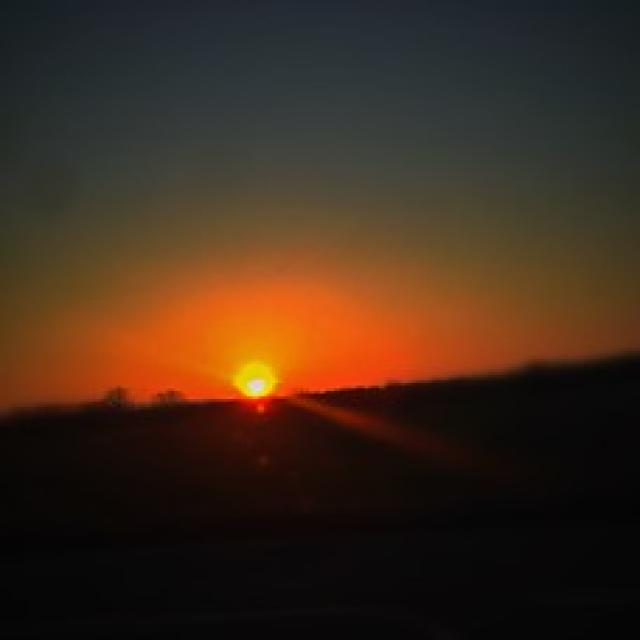sun: (225, 349, 288, 413)
